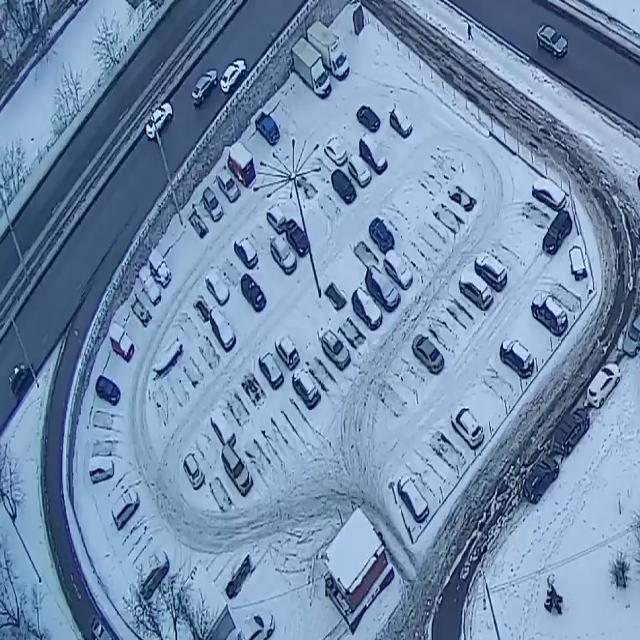car: (307, 17, 351, 84), (290, 34, 333, 101), (449, 395, 485, 453), (136, 546, 170, 605), (522, 454, 560, 505), (552, 407, 590, 457), (364, 262, 401, 313), (530, 290, 568, 339), (457, 264, 494, 314), (220, 443, 253, 499), (500, 330, 534, 384), (474, 245, 508, 298), (586, 361, 622, 410), (396, 474, 431, 524), (410, 331, 445, 378), (542, 207, 573, 260), (530, 172, 569, 214), (235, 602, 278, 640), (112, 484, 142, 536), (208, 402, 237, 455), (219, 52, 251, 100), (351, 286, 384, 332), (227, 142, 257, 192), (144, 98, 174, 147), (269, 230, 298, 279), (358, 130, 388, 177), (191, 61, 219, 110), (291, 365, 320, 412), (384, 248, 414, 293), (209, 306, 237, 354), (536, 21, 568, 62), (321, 330, 352, 372), (367, 215, 395, 260), (283, 217, 311, 262), (330, 165, 358, 207), (8, 356, 32, 404), (109, 322, 135, 366), (258, 348, 284, 392), (240, 273, 267, 314), (138, 264, 163, 308), (147, 248, 173, 290), (347, 150, 373, 192), (322, 131, 349, 171), (274, 331, 300, 372), (232, 232, 259, 271), (182, 451, 206, 494), (216, 166, 241, 206), (205, 267, 230, 307), (255, 112, 281, 148), (92, 375, 121, 407), (388, 104, 413, 140), (87, 456, 115, 488), (266, 199, 288, 238), (202, 187, 224, 224), (356, 104, 381, 134)
